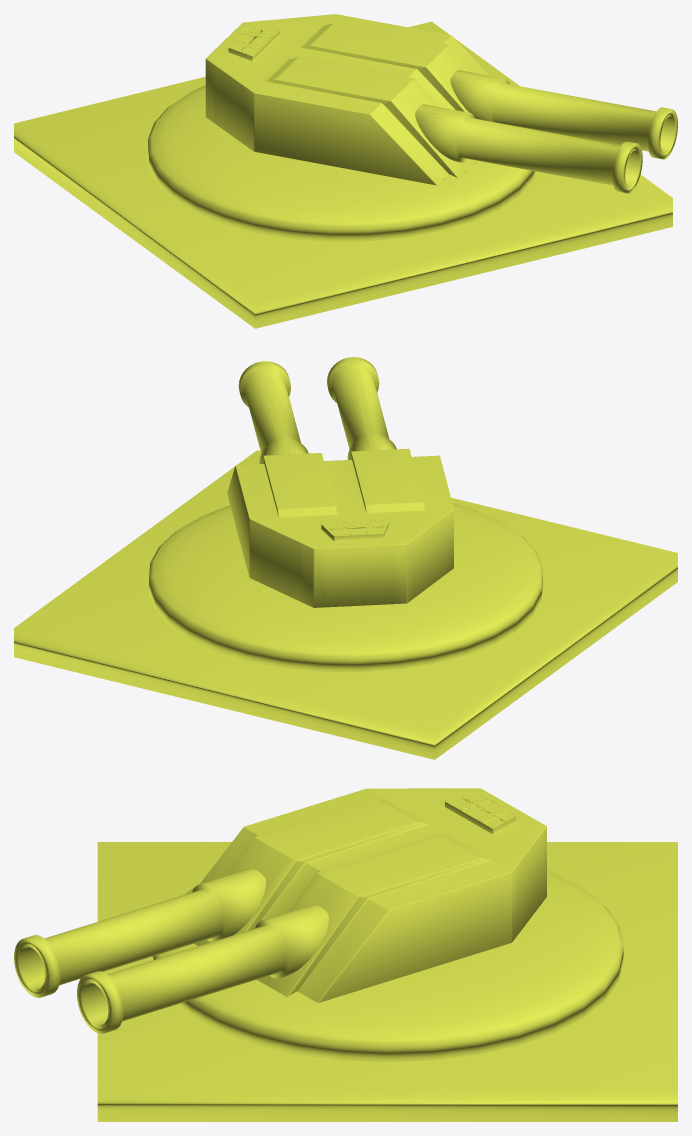
Rendered from gunTurret_yellow.fbx.
3 views of the same model, one above another, from view 1: azimuth 30°, elevation 25°; view 2: azimuth 150°, elevation 25°; view 3: azimuth 270°, elevation 25° (orthographic). The views are drawn at different scales.
Parts seen in each view (by area): view 1: Cube.001; view 2: Cube.001; view 3: Cube.001.
Part boxes in pixels (left/top/right/bottom): Cube.001: left=14, top=14, right=677, bottom=328; Cube.001: left=14, top=357, right=677, bottom=759; Cube.001: left=14, top=788, right=677, bottom=1121.
Size of the model in its own units: 2183 by 649 by 2429.
